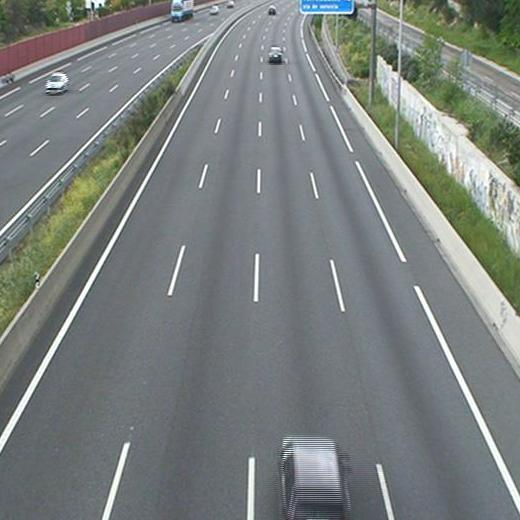car: (278, 436, 350, 519), (268, 46, 283, 63)
